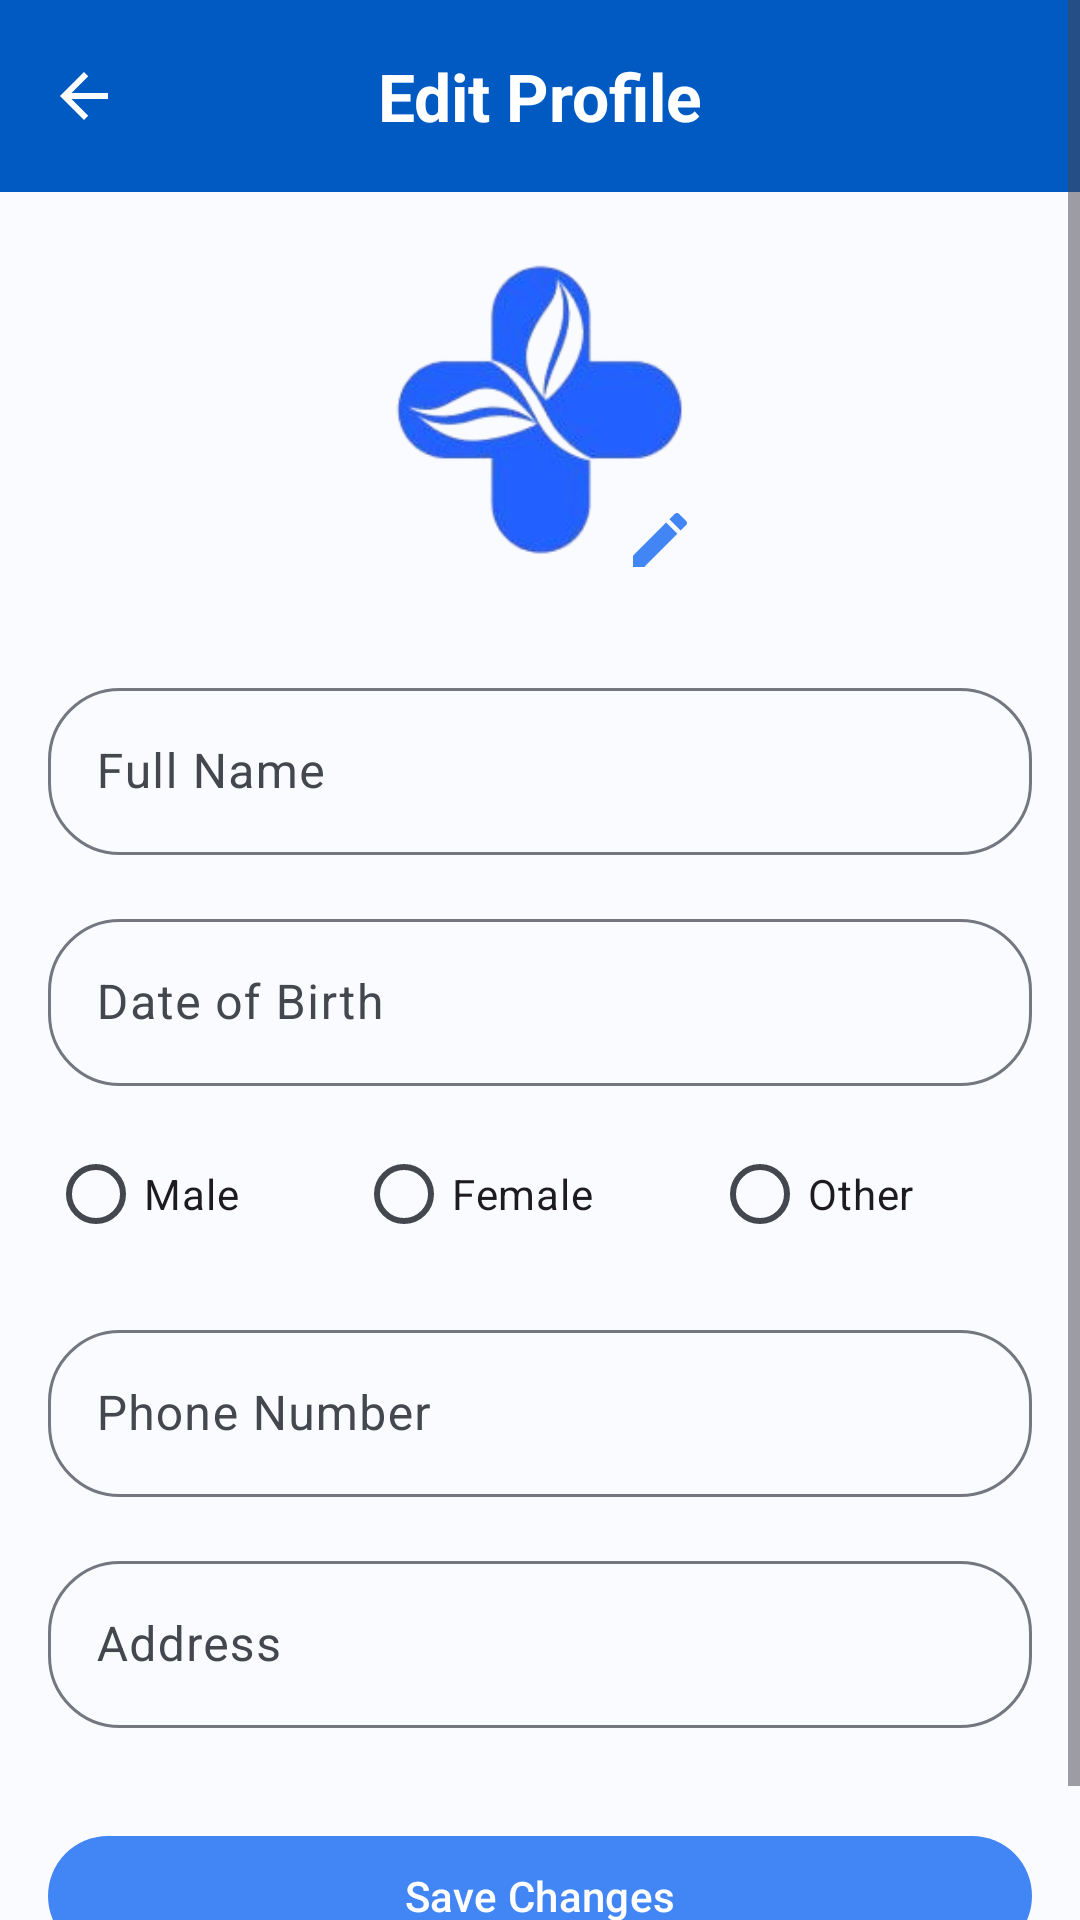

Locate icon controls on the screen. Image size 1080px x 1920px, boxes as (x1, y1, x2, y2).
edit: (633, 513, 687, 567)
